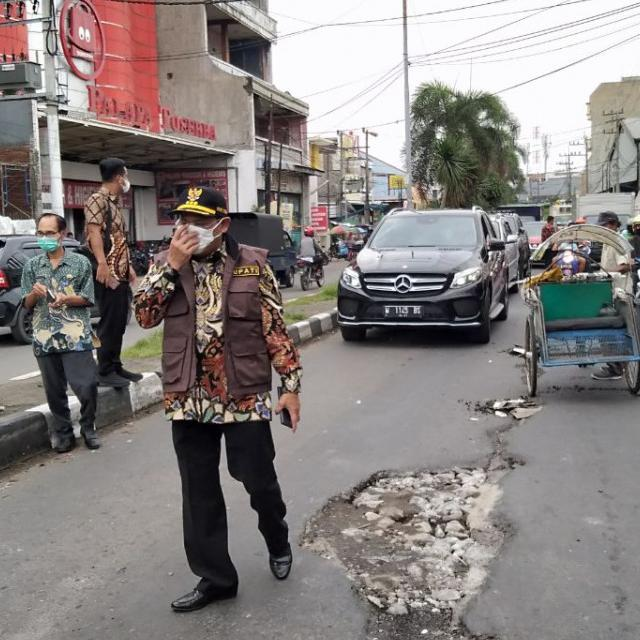lubang_kecil: (291, 446, 523, 640)
